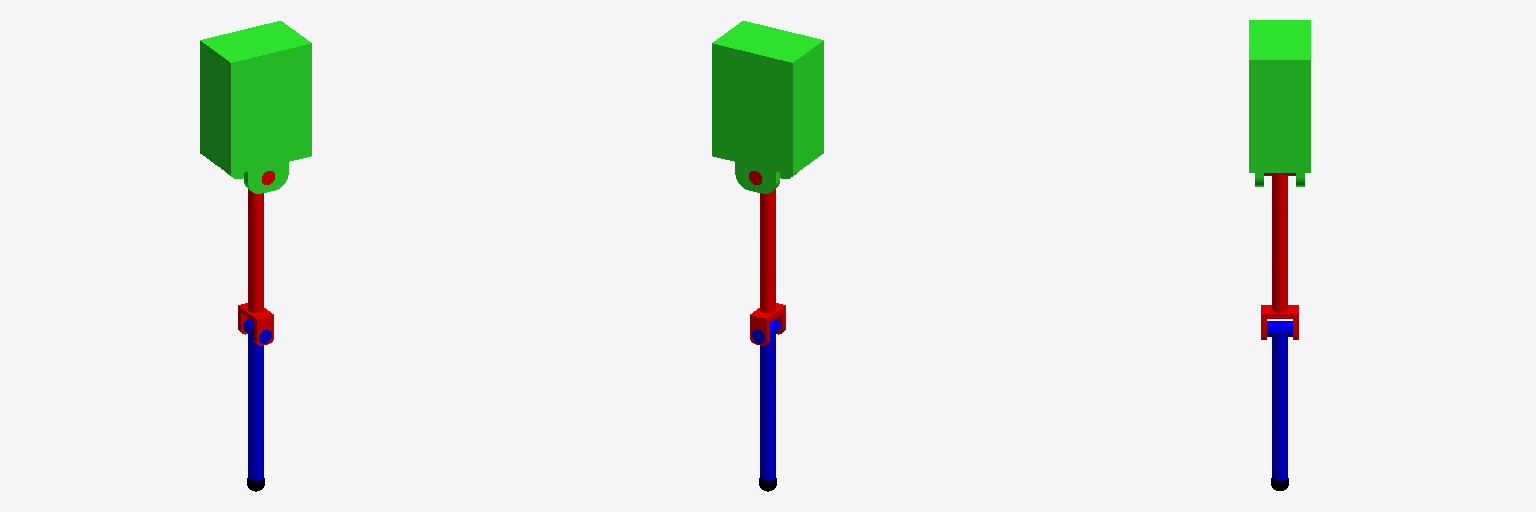
The robot description file, URDF, robot "JumpRobot":
<?xml version='1.0' encoding='UTF-8'?>
<!--URDF-->
<robot name='JumpRobot'>

    <link name="base">
        <inertial>
            <origin rpy="0 0 0" xyz="0 0 0"/>
            <mass value="0"/>
            <inertia ixx="0" ixy="0" ixz="0" iyy="0" iyz="0" izz="0"/>
        </inertial>
    </link>

    <link name="body_a">
        <visual>
            <origin xyz="0 0 0" rpy="0 0 0"/>
            <geometry>
                <mesh filename="pb_jump/model/meshes/body.stl"/>
            </geometry>
            <material name="green">
                <color rgba="0.2 1 0.2 1"/>
            </material>
        </visual>

        <collision>
            <origin xyz="0 0 0" rpy="0 0 0"/>
            <geometry>
               <mesh filename="pb_jump/model/meshes/body.stl"/>
            </geometry>
        </collision>

        <inertial>
            <origin xyz="0 0 0" rpy="0 0 0"/>
            <mass value="30.00" />
            <inertia ixx="0.038" ixy="0.0" ixz="0.0" iyy="0.046" iyz="0.0" izz="0.022" />
        </inertial>
    </link>

    <link name="upper_leg_a">
        <visual>
            <origin xyz="0 0 0" rpy="0 0 0"/>
            <geometry>
                <mesh filename="pb_jump/model/meshes/upper_leg.stl"/>
            </geometry>
            <material name="red">
                <color rgba="1 0 0 1"/>
            </material>
        </visual>

        <collision>
            <origin xyz="0 0 0" rpy="0 0 0"/>
            <geometry>
                <mesh filename="pb_jump/model/meshes/upper_leg.stl"/>
            </geometry>
        </collision>

        <inertial>
            <origin xyz="0 0 -0.127" rpy="0 0 0"/>
            <mass value="1.5" />
            <inertia ixx="0.0" ixy="0.0" ixz="0.0" iyy="6.8548e-04" iyz="0.0" izz="6.8548e-04" />
        </inertial>
    </link>

    <link name="lower_leg_a">
        <visual>
            <origin xyz="0 0 0" rpy="0 0 0"/>
            <geometry>
                <mesh filename="pb_jump/model/meshes/lower_leg.stl"/>
            </geometry>
            <material name="blue">
                <color rgba="0 0 1 1"/>
            </material>
        </visual>

        <collision>
            <origin xyz="0 0 0" rpy="0 0 0"/>
            <geometry>
                <mesh filename="pb_jump/model/meshes/lower_leg.stl"/>
            </geometry>
        </collision>

        <inertial>
            <origin xyz="0 0 -0.105" rpy="0 0 0"/>
            <mass value="1.5" />
            <inertia ixx="0.0" ixy="0.0" ixz="0.0" iyy="3.6750e-04" iyz="0.0" izz="3.6750e-04" />
        </inertial>
    </link>       


    <link name="foot">
        <origin xyz="0 0 0" rpy="0 0 0" />
            <visual>
                <origin xyz="0 0 0" rpy="0 0 0" />
                <geometry>
                    <mesh filename="pb_jump/model/meshes/foot.stl"/>
                </geometry>
                <material name="black">
                    <color rgba="0 0 0 0.85"/>
                </material>
        </visual>

        <collision>
            <origin xyz="0 0 0" rpy="0 0 0"/>
            <geometry>
                <mesh filename="pb_jump/model/meshes/foot.stl"/>
            </geometry>
        </collision>    

        <inertial>
            <origin rpy="0 0 0" xyz="0 0 0"/>
            <mass value="0.1"/>
            <inertia ixx="0" ixy="0" ixz="0" iyy="0" iyz="0" izz="0"/>
        </inertial>
    </link>

    <link name="dummy_link">
        <origin xyz="0 0 0" rpy="0 0 0" />
        <inertial>
            <origin rpy="0 0 0" xyz="0 0 0"/>
            <mass value="0.1"/>
            <inertia ixx="0" ixy="0" ixz="0" iyy="0" iyz="0" izz="0"/>
        </inertial>
    </link>

    <joint name="base_r" type="prismatic">
        <parent link="base"/>
        <child link="dummy_link"/>
        <axis xyz="1 0 0"/>
        <origin xyz="0 0 0"/>
        <limit lower="-20" upper="20" velocity="100" effort="100"/> 
    </joint>

    <joint name="base" type="prismatic">
        <parent link="dummy_link"/>
        <child link="body_a"/>
        <axis xyz="0 0 1"/>
        <origin rpy="0 0 0" xyz="0 0 0"/>
        <limit lower="0" upper="1.5" velocity="100" effort="100"/> 
    </joint>
 
    <joint name="hfe" type="revolute">
        <origin rpy="0 0 0" xyz="0 0 -0.125"/>
        <parent link="body_a"/>
        <child link="upper_leg_a"/>
        <axis xyz="0 1 0"/>
        <dynamics damping="0.1" friction="0" />
        <limit lower="-1.57" upper="1.57"/>
    </joint>

    <joint name="kfe" type="revolute">
        <origin rpy="0 0 0" xyz="0 0 -0.285"/>
        <parent link="upper_leg_a"/>
        <child link="lower_leg_a"/>
        <axis xyz="0 1 0"/>
        <dynamics damping="0.1" friction="0" />
        <limit lower="-2.18" upper="2.18"/>
    </joint>

    <joint name="fft" type="fixed">
        <origin rpy="0 0 0" xyz="0 0 -0.270"/>
        <parent link="lower_leg_a"/>
        <child link="foot"/>
    </joint>

</robot>

--- Render facts (derived) ---
Views: 3 orthographic renders of the robot side by side, from view 1: azimuth 30°, elevation 25°; view 2: azimuth 150°, elevation 25°; view 3: azimuth 270°, elevation 25°.
Model JumpRobot with 6 links and 5 joints (2 revolute, 2 prismatic, 1 fixed), rooted at base, posed every joint at zero.
Visible links, largest first — view 1: body_a, upper_leg_a, lower_leg_a; view 2: body_a, upper_leg_a, lower_leg_a; view 3: body_a, upper_leg_a, lower_leg_a.
Link boxes in pixels (x1,y1,x2,y2): body_a: (200, 21, 311, 193); upper_leg_a: (238, 171, 274, 345); lower_leg_a: (243, 319, 271, 480); body_a: (712, 21, 823, 193); upper_leg_a: (749, 171, 785, 345); lower_leg_a: (752, 319, 780, 480); body_a: (1249, 20, 1310, 186); upper_leg_a: (1261, 173, 1298, 339); lower_leg_a: (1267, 321, 1292, 480).
Size in the robot's own frame: 0.15 by 0.1 by 0.795 metres.
Meshes: 4 distinct files referenced, 4 mesh visuals loaded (4 binary STL).